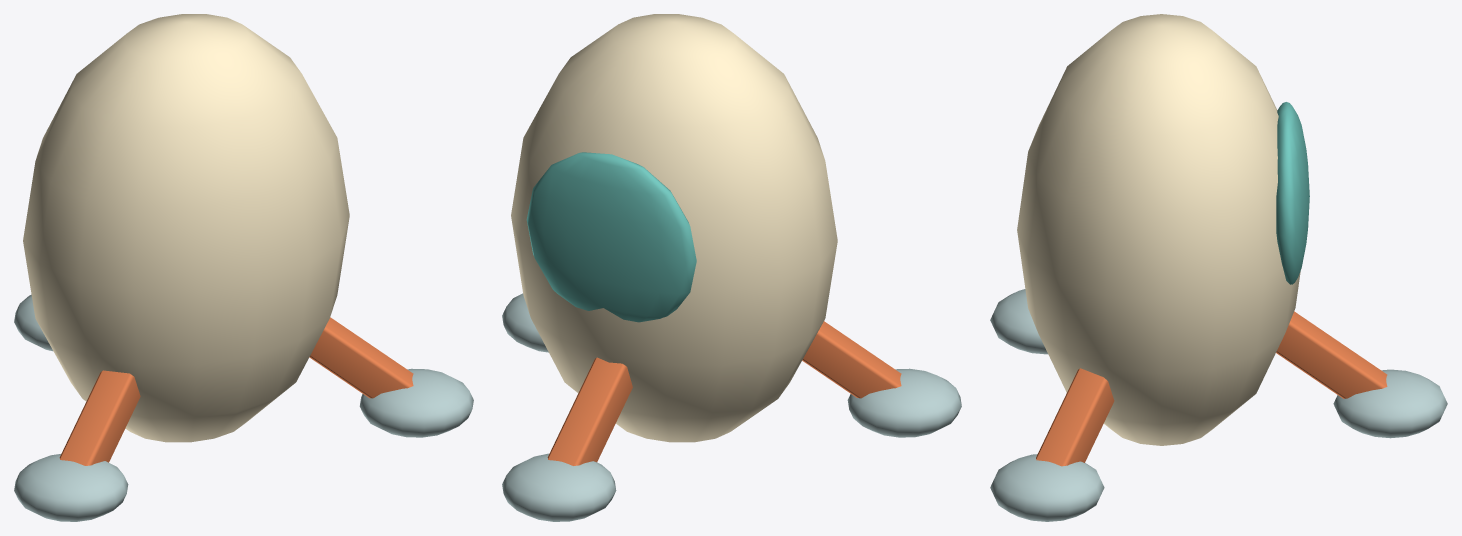
Rendered from landing_pod.glb.
The picture shows the model from 3 angles, left to right: view 1: azimuth 30°, elevation 25°; view 2: azimuth 150°, elevation 25°; view 3: azimuth 270°, elevation 25°; orthographic projection.
Visible parts, largest first — view 1: Hull, Pad.002, Pad.001, Landing strut.002, Landing strut.001, Pad; view 2: Hull, Window, Pad, Pad.002, Landing strut, Landing strut.002, Pad.001; view 3: Hull, Pad.001, Pad, Window, Landing strut, Landing strut.001, Pad.002.
Boxes of the visible parts, bbox=[...] form: Hull: bbox=[23, 14, 349, 442]; Pad.002: bbox=[14, 454, 128, 521]; Pad.001: bbox=[359, 368, 473, 437]; Landing strut.002: bbox=[59, 370, 140, 465]; Landing strut.001: bbox=[309, 317, 413, 398]; Pad: bbox=[14, 294, 52, 351]; Hull: bbox=[511, 14, 837, 442]; Window: bbox=[526, 152, 696, 322]; Pad: bbox=[502, 453, 616, 521]; Pad.002: bbox=[847, 368, 961, 437]; Landing strut: bbox=[547, 357, 632, 465]; Landing strut.002: bbox=[802, 321, 901, 398]; Pad.001: bbox=[502, 293, 548, 352]; Hull: bbox=[1017, 14, 1300, 445]; Pad.001: bbox=[990, 454, 1104, 521]; Pad: bbox=[1333, 369, 1447, 438]; Window: bbox=[1276, 102, 1309, 284]; Landing strut: bbox=[1276, 311, 1387, 398]; Landing strut.001: bbox=[1036, 368, 1114, 466]; Pad.002: bbox=[990, 289, 1047, 354].
Size of the model in its own units: 1.52 by 1.34 by 1.36.
